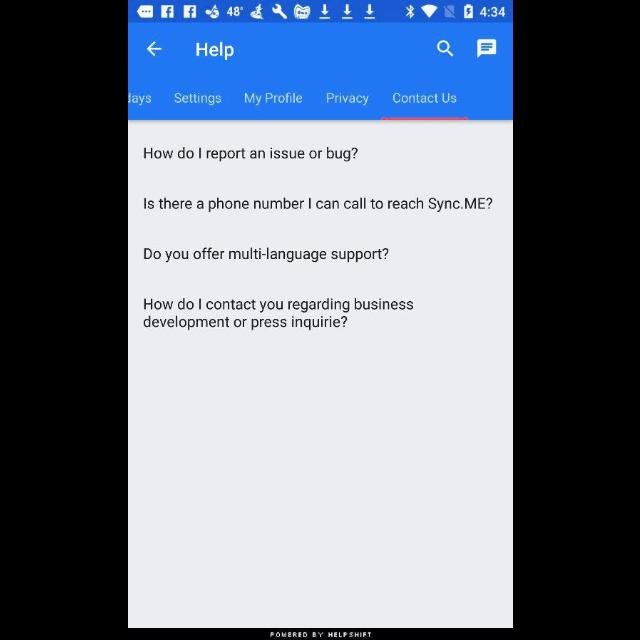icon: (476, 40, 496, 60), (436, 41, 454, 58), (146, 41, 162, 58)
text: (143, 298, 413, 330), (144, 198, 492, 212), (142, 248, 388, 262), (143, 148, 357, 162), (244, 93, 302, 107), (392, 92, 456, 104), (196, 41, 234, 60), (270, 632, 370, 638), (326, 93, 368, 107), (173, 94, 220, 106), (128, 94, 150, 106)
uppertaskbar: (128, 1, 512, 23)
